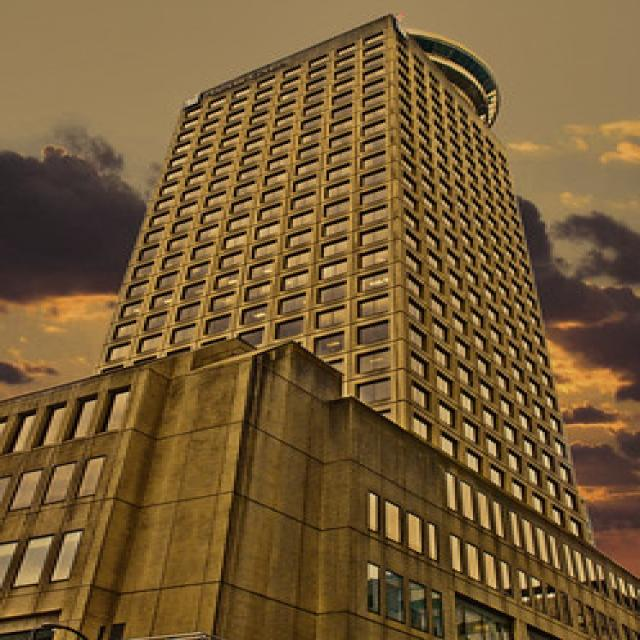building: (92, 14, 614, 640)
